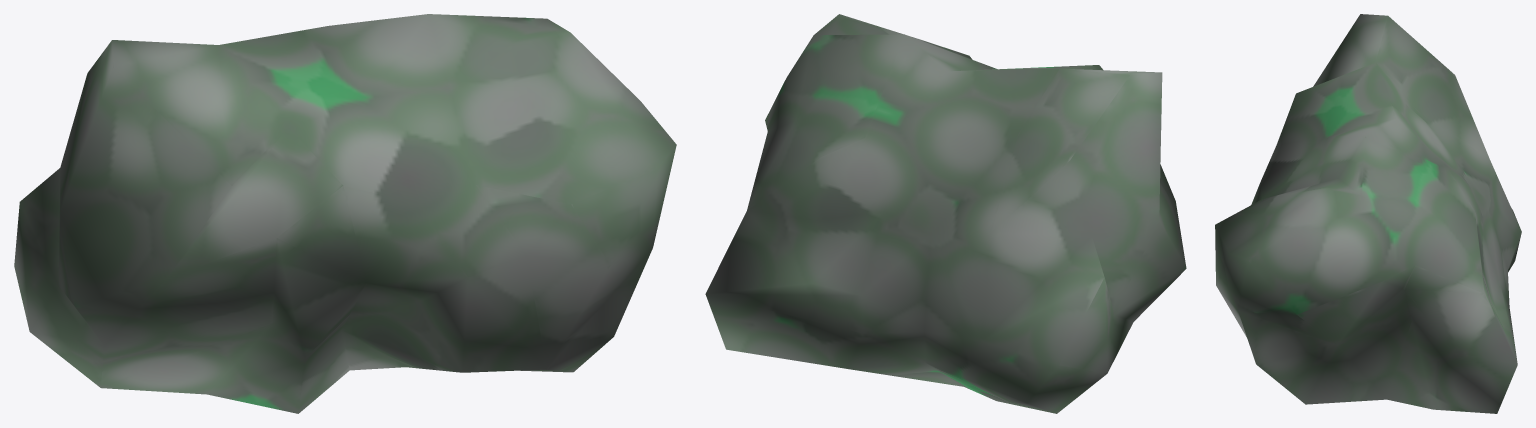
Rendered from my_mesh_rock SubTool4.glb.
The picture shows the model from 3 angles, left to right: view 1: azimuth 30°, elevation 25°; view 2: azimuth 150°, elevation 25°; view 3: azimuth 270°, elevation 25°; orthographic projection. The views are drawn at different scales.
Parts seen in each view (by area): view 1: rock SubTool4; view 2: rock SubTool4; view 3: rock SubTool4.
Boxes of the visible parts, <box> form: rock SubTool4: <box>14,14,676,413</box>; rock SubTool4: <box>705,14,1186,413</box>; rock SubTool4: <box>1215,14,1521,413</box>.
Bounding box in the file's own units: 6.17 × 4.92 × 4.75.
1 material, 1 textured.
